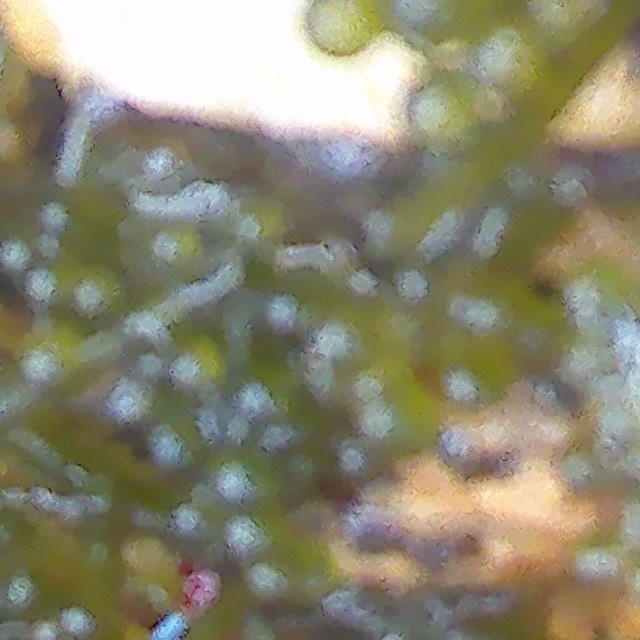SeaGrape: (470, 17, 554, 99), (307, 0, 388, 62), (170, 333, 228, 392)
